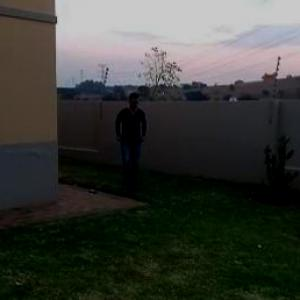follow: (113, 90, 149, 195)
